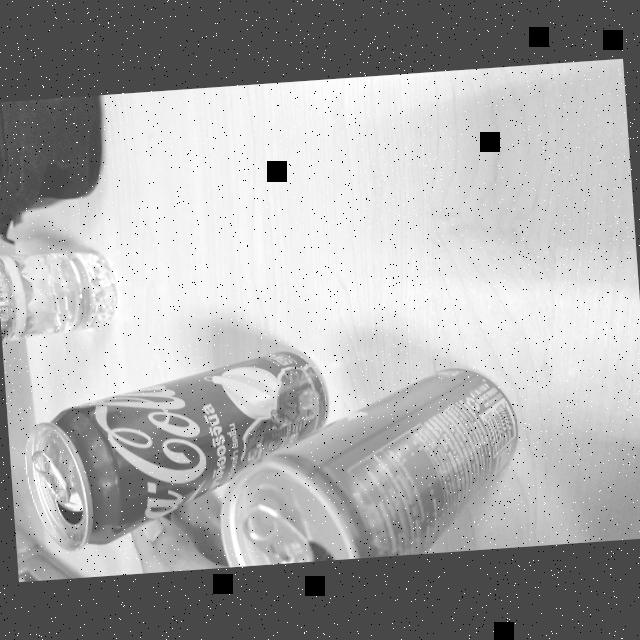can: (213, 330, 539, 566), (19, 327, 339, 555)
